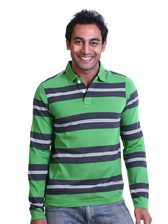clothoes: (22, 61, 157, 210)
